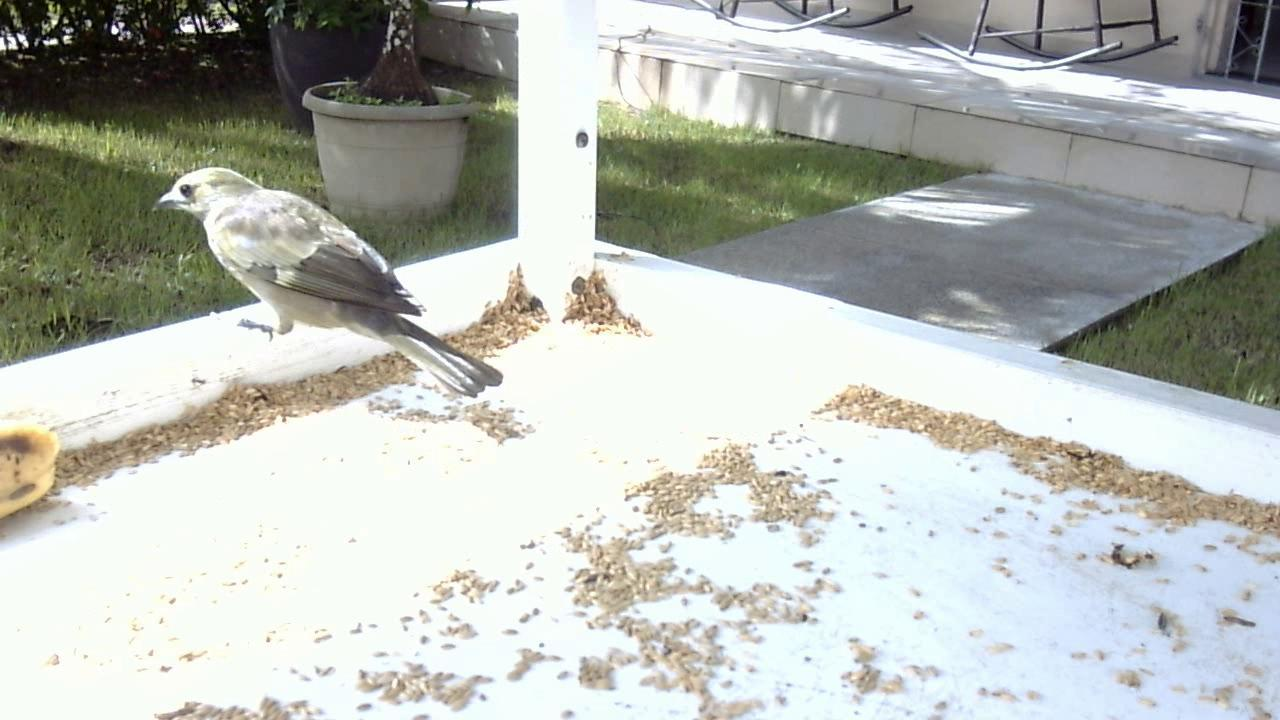sanhaco_do_coqueiro: (156, 159, 504, 406)
